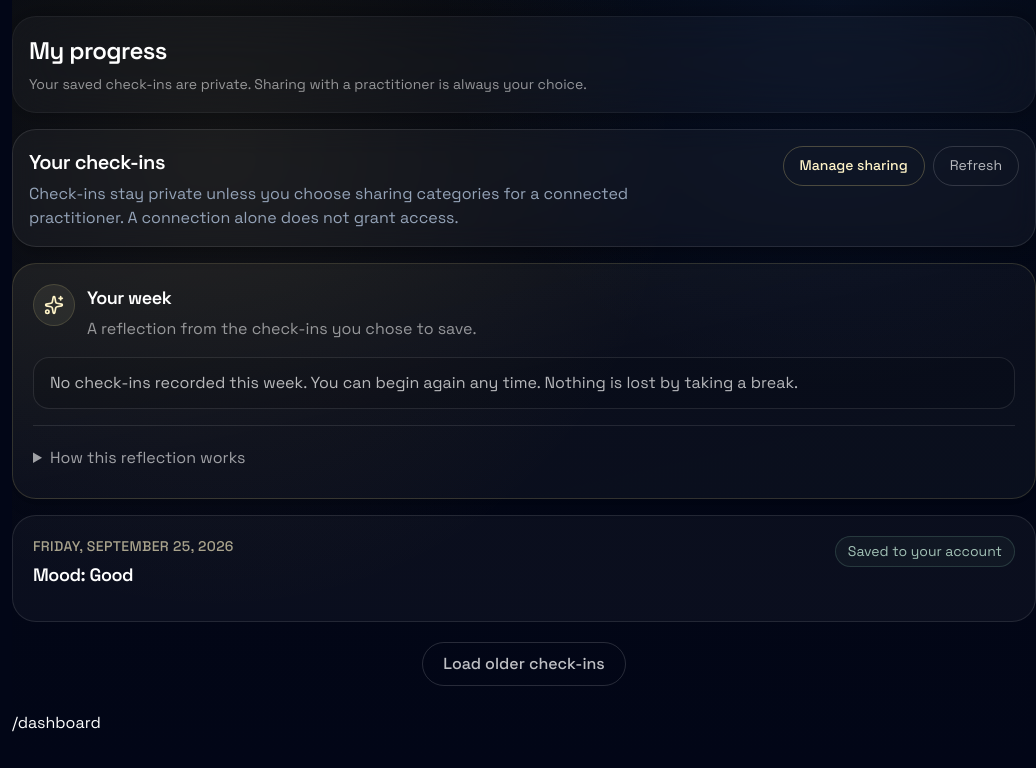
it: client check-in history › loads older account check-ins only when requested and appends them
Check: the heading "Mood: Good" is shown, box [33, 562, 133, 586]
Check: the text "Mood: Okay" is not shown
Step 1. Click the button "Load older check-ins" → [524, 664], box [422, 642, 626, 686]
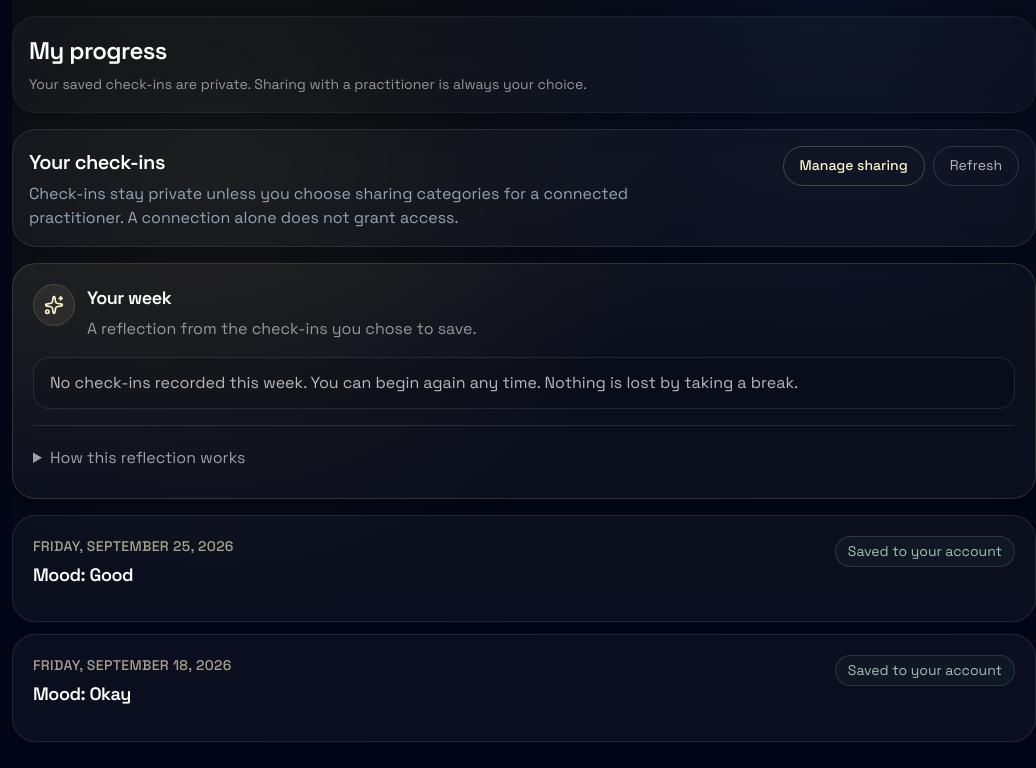
Check: the heading "Mood: Okay" is shown, box [33, 682, 131, 705]
Check: the button "Load older check-ins" is gone
